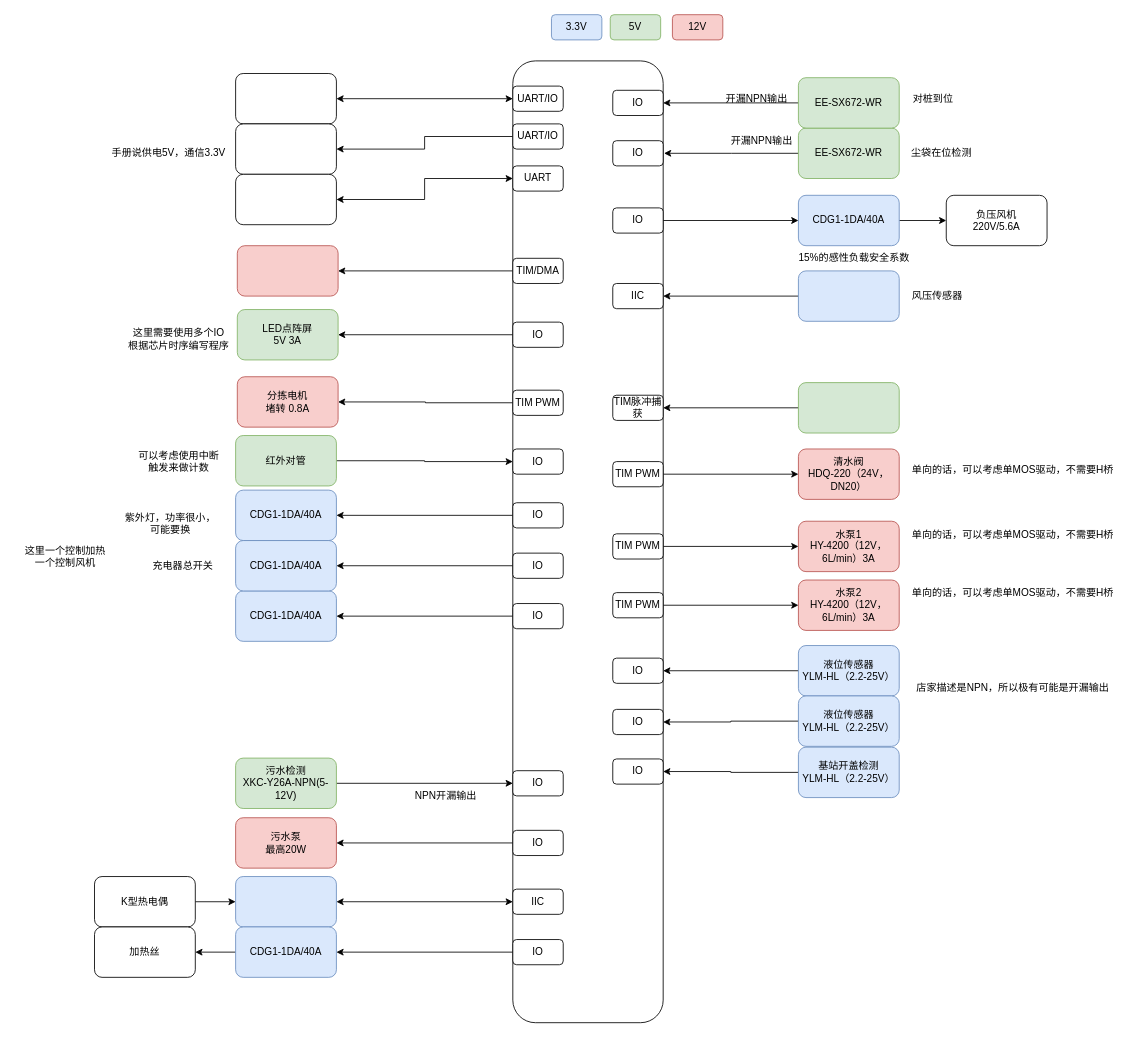
Image size: 1136x1037. Some labels were removed from this diagram. Here are the shapes that lost their labels. From the top down, the centre of each, then its label:
At point (285, 98): "4G模块 移远EC20".
At point (285, 148): "Lora模块 E32 433T20S".
At point (285, 199): "Debug接口 TTL电平 3.3".
At point (287, 270): "LED单总线控制".
At point (848, 295): "GZP6847D040KPP".
At point (848, 407): "YF-S401流量计".
At point (285, 901): "MAX6675ISA+T".
